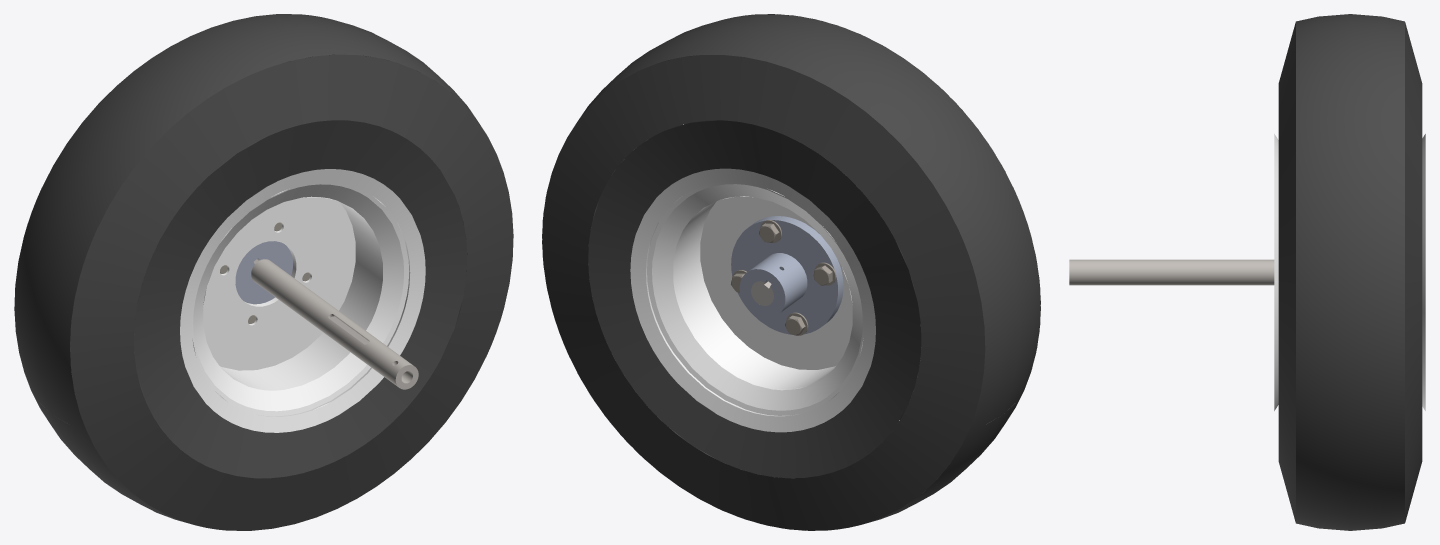
Rendered from front_left_wheel_link.DAE.
3 views of the same model, side by side, from view 1: azimuth 30°, elevation 25°; view 2: azimuth 150°, elevation 25°; view 3: azimuth 270°, elevation 25° (orthographic).
Parts seen in each view (by area): view 1: Revolution1_2_-DC_Shell, Revolution1_1_-DC_Shell, Mirror1-DC_Shell, Extrusion8-DC_Shell, Cut-Extrude4-DC_Shell; view 2: Revolution1_2_-DC_Shell, Revolution1_1_-DC_Shell, Mirror1-DC_Shell, Cut-Extrude4-DC_Shell; view 3: Revolution1_2_-DC_Shell, Revolution1_1_-DC_Shell, Extrusion8-DC_Shell, Mirror1-DC_Shell.
Part boxes in pixels (left/top/right/bottom): Revolution1_2_-DC_Shell: left=14, top=14, right=496, bottom=431; Revolution1_1_-DC_Shell: left=31, top=137, right=513, bottom=530; Mirror1-DC_Shell: left=180, top=169, right=425, bottom=432; Extrusion8-DC_Shell: left=251, top=258, right=418, bottom=389; Cut-Extrude4-DC_Shell: left=235, top=241, right=292, bottom=304; Revolution1_2_-DC_Shell: left=559, top=14, right=1040, bottom=430; Revolution1_1_-DC_Shell: left=542, top=149, right=1023, bottom=530; Mirror1-DC_Shell: left=630, top=168, right=875, bottom=432; Cut-Extrude4-DC_Shell: left=731, top=216, right=843, bottom=334; Revolution1_2_-DC_Shell: left=1278, top=14, right=1422, bottom=284; Revolution1_1_-DC_Shell: left=1278, top=281, right=1422, bottom=530; Extrusion8-DC_Shell: left=1069, top=259, right=1274, bottom=285; Mirror1-DC_Shell: left=1274, top=134, right=1425, bottom=410.
Size of the model in its own units: 14.93 by 10.28 by 14.93.
